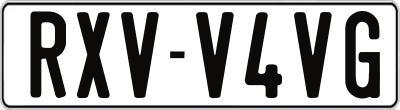4: (244, 9, 286, 97)
G: (342, 9, 381, 99)
R: (30, 10, 71, 103)
V: (195, 10, 237, 102), (120, 10, 161, 98), (291, 10, 331, 98)
X: (76, 10, 111, 98)
